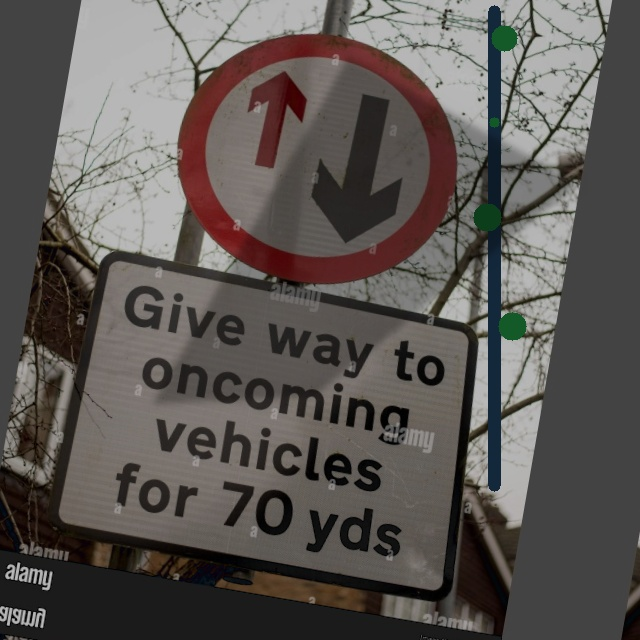Priority_for_Oncoming_Traffic: (159, 11, 479, 303)
